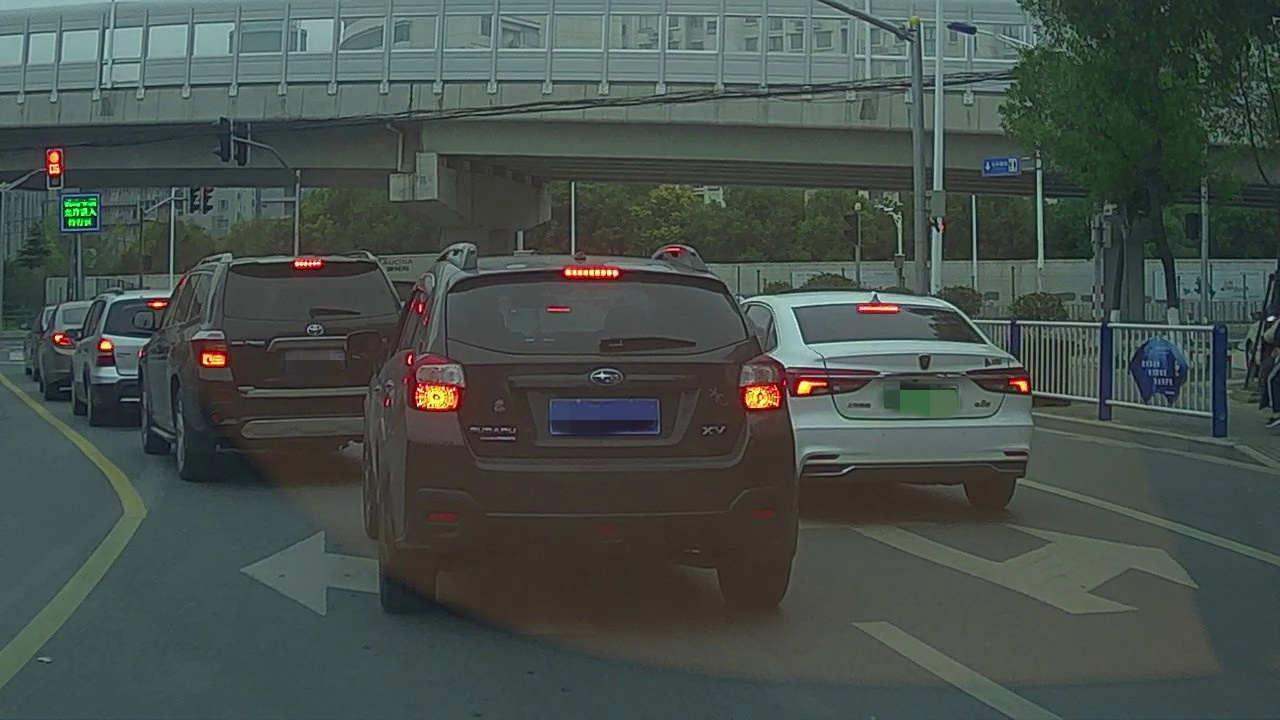traffic_light: (46, 151, 61, 187)
